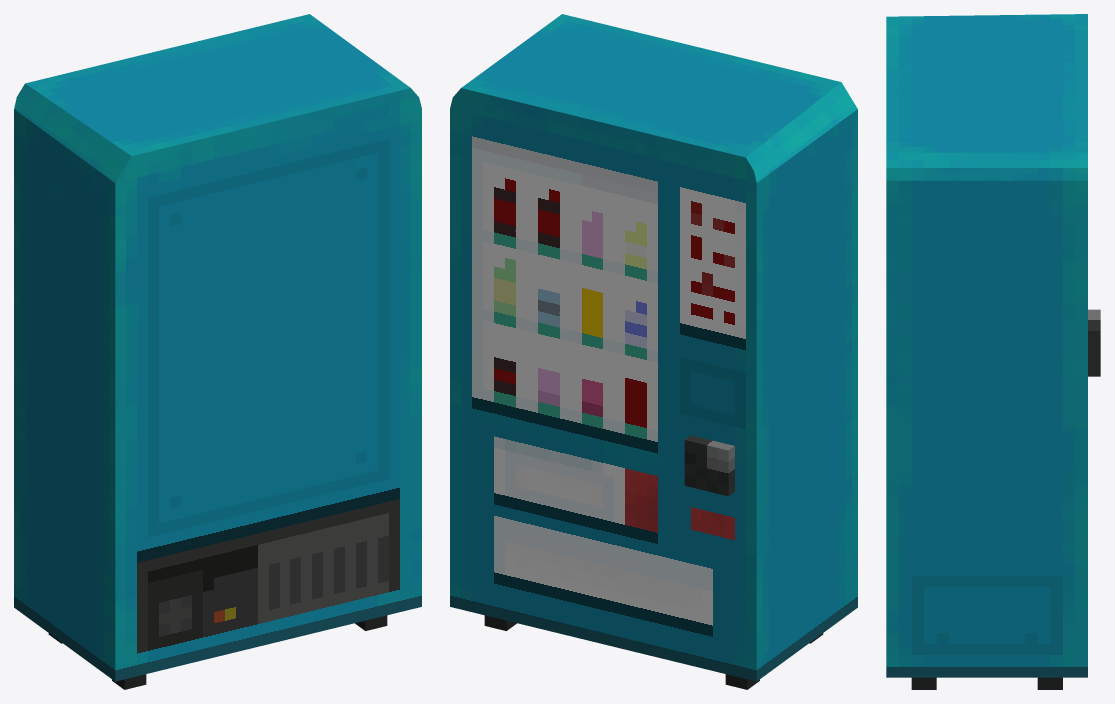
File: vending_machine.gltf
The picture shows the model from 3 angles, left to right: view 1: azimuth 30°, elevation 25°; view 2: azimuth 150°, elevation 25°; view 3: azimuth 270°, elevation 25°; orthographic projection.
Visible parts, largest first — view 1: main; view 2: main; view 3: main.
Part boxes in pixels (x1,y1,x2,y2): main: [14, 14, 421, 689]; main: [450, 14, 857, 689]; main: [886, 14, 1100, 689].
Bounding box in the file's own units: 0.875 × 1.48 × 0.5312.
1 material, 1 textured.
